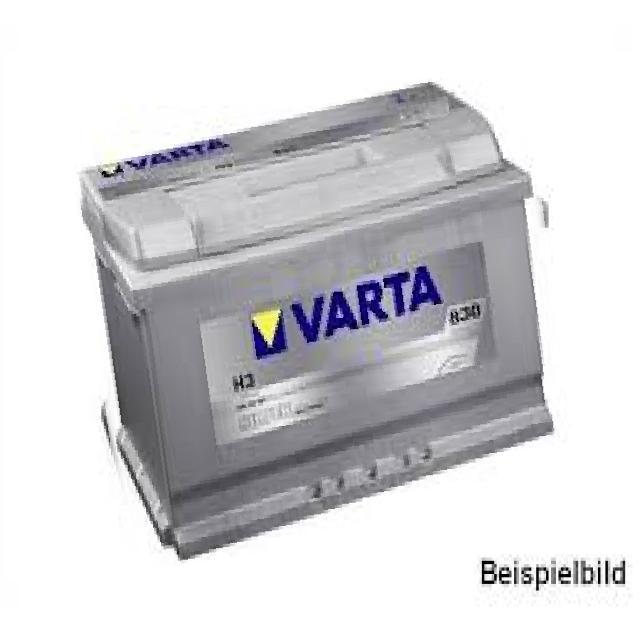Battery: (63, 74, 565, 572)
